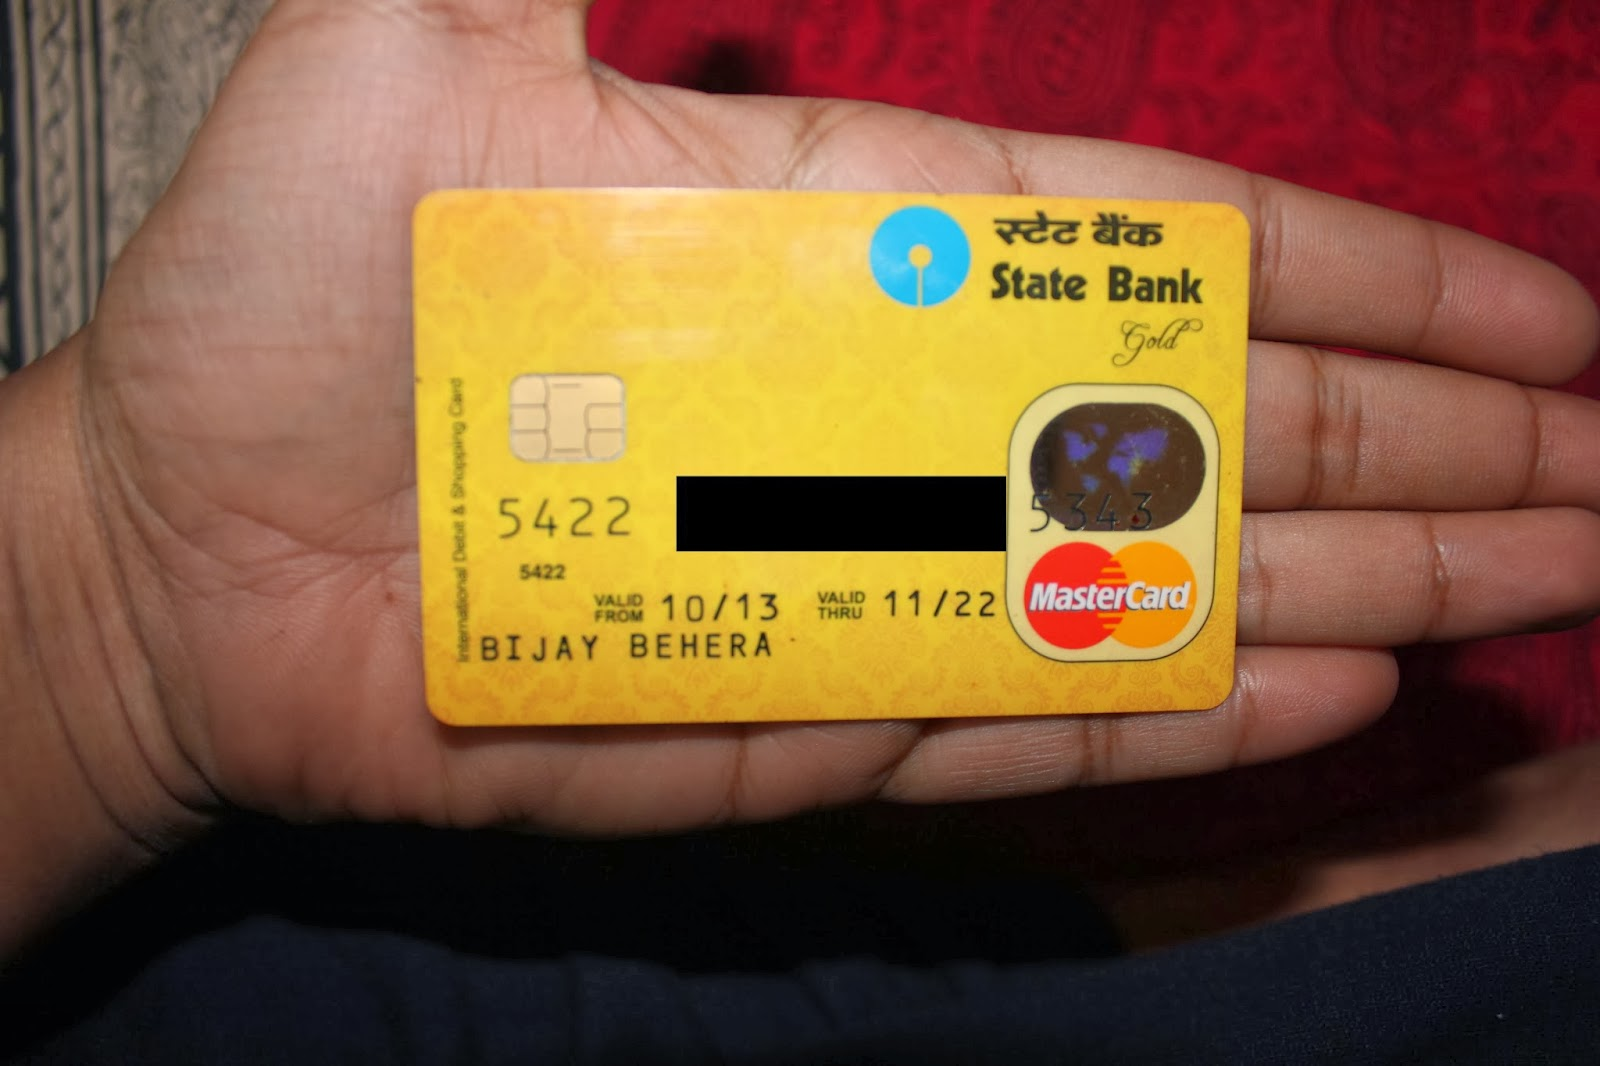tarjeta: (406, 184, 1251, 726)
